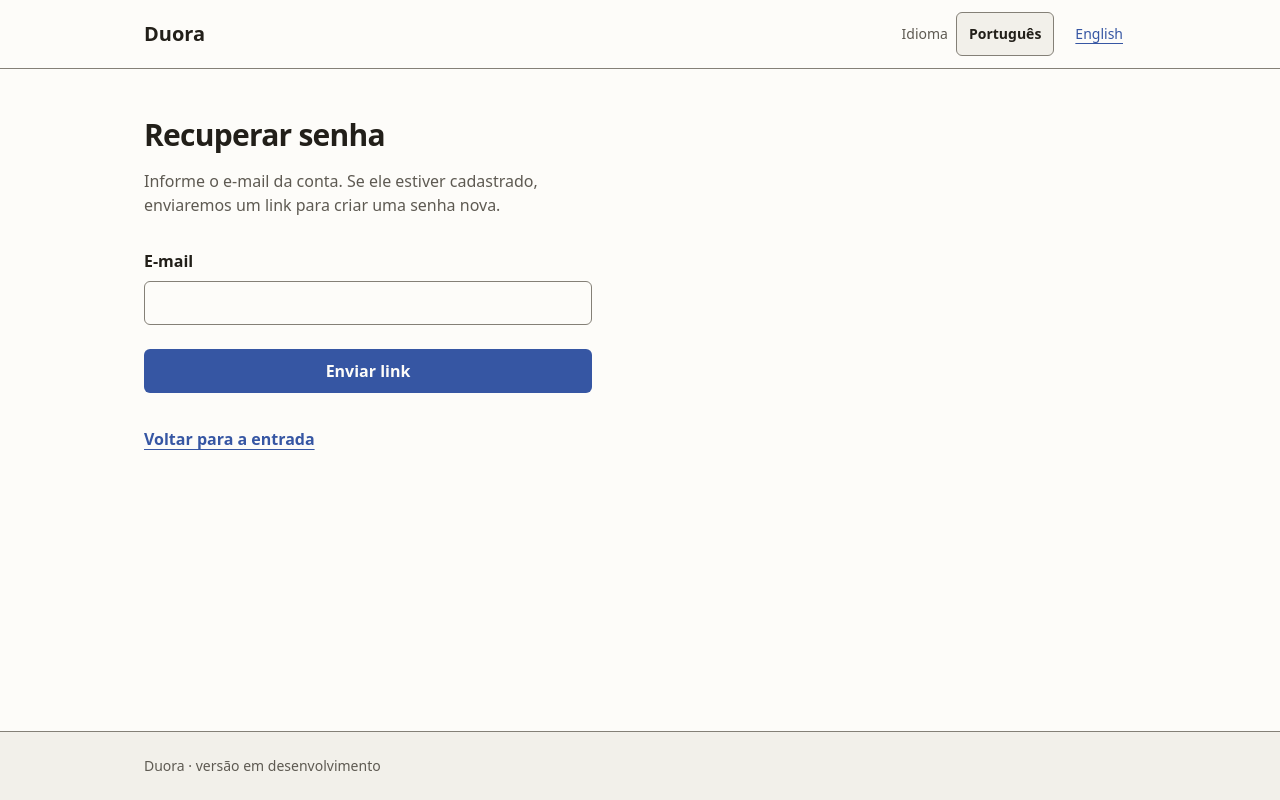
tela de recuperação de senha › pede o link com CSRF e responde de forma neutra
The image size is (1280, 800).
Step 1. Type "ana@exemplo.com" into the field labelled "E-mail" → (368, 303), box [144,281,592,325]
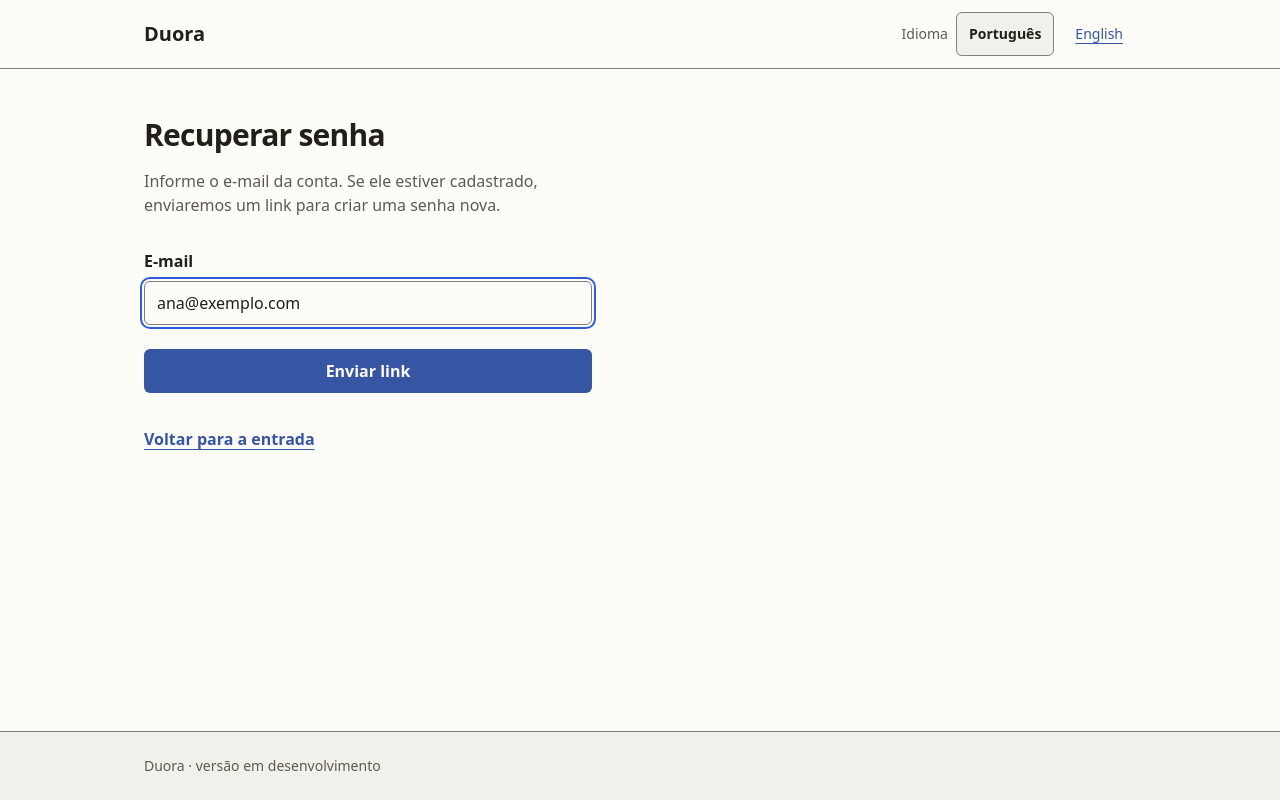
Step 2. Click the button "Enviar link" → (368, 371), box [144,349,592,393]
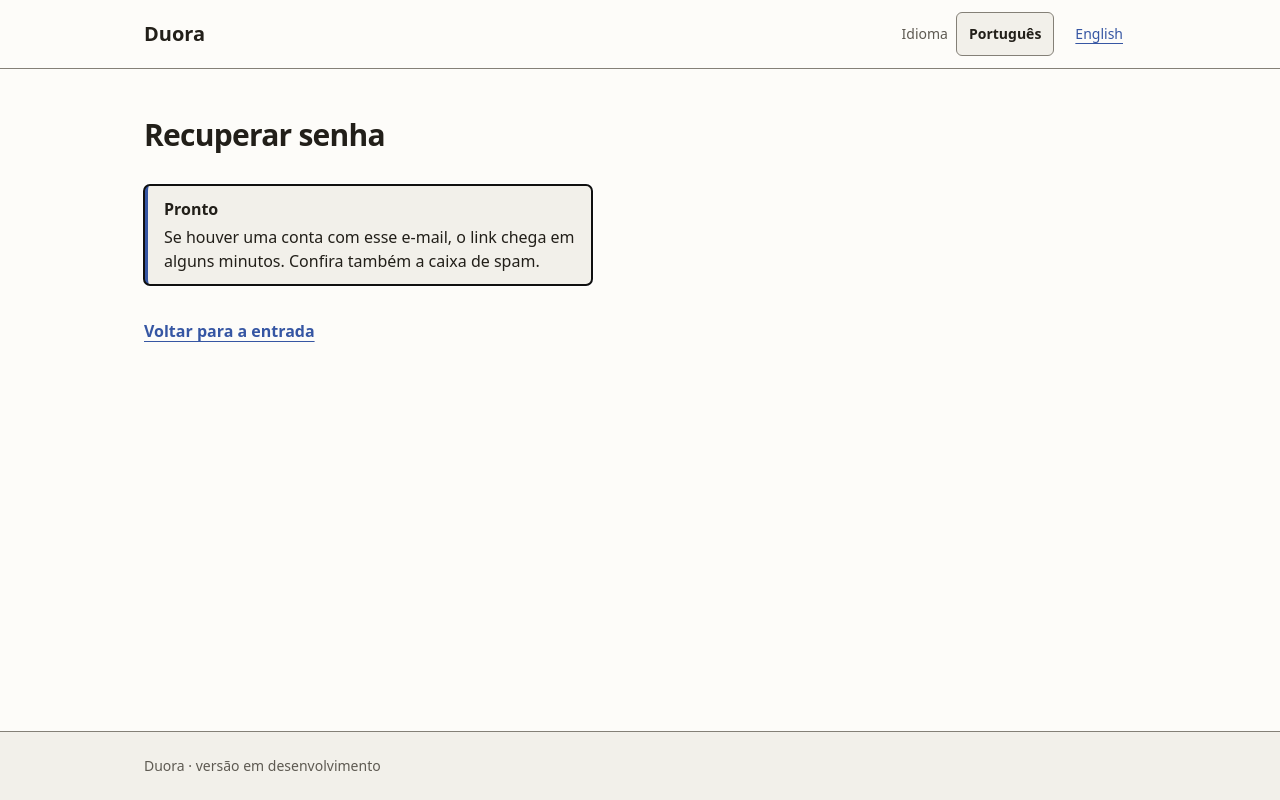
Expected: the message shows "Se houver uma conta com esse e-mail", [164,226,575,272]
